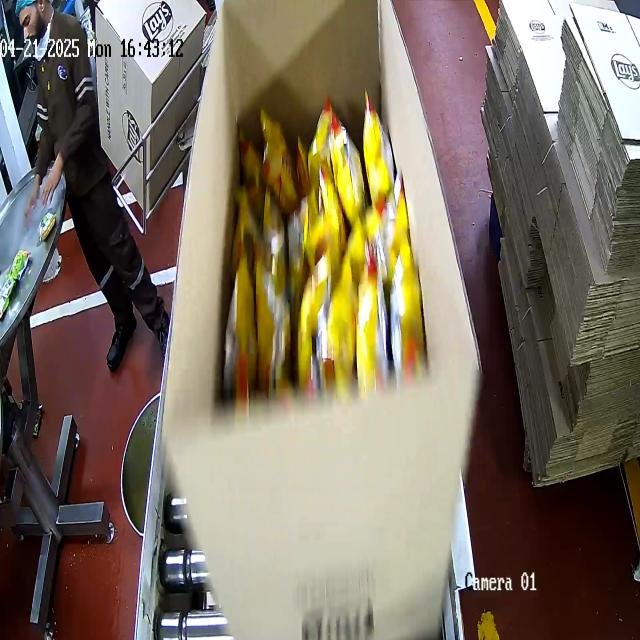SALTED: (212, 94, 416, 413)
